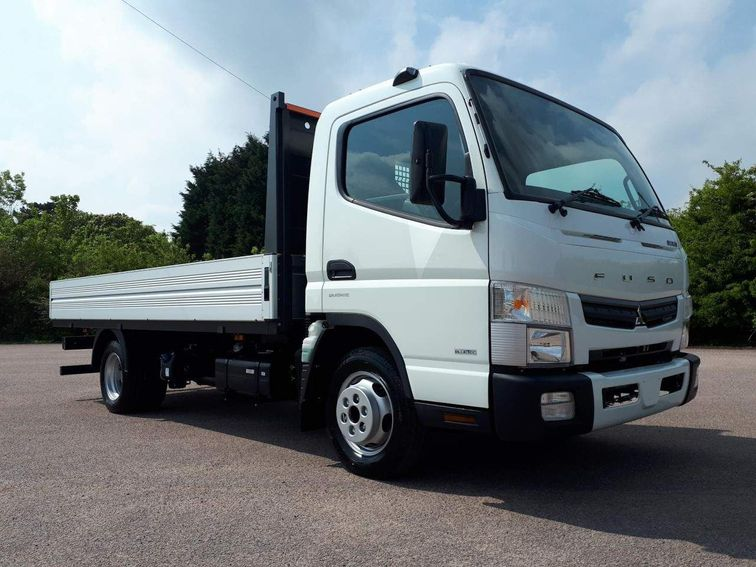Semi: (47, 61, 700, 476)
